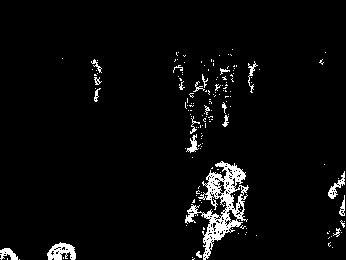person: (184, 80, 213, 152), (216, 65, 233, 127)
